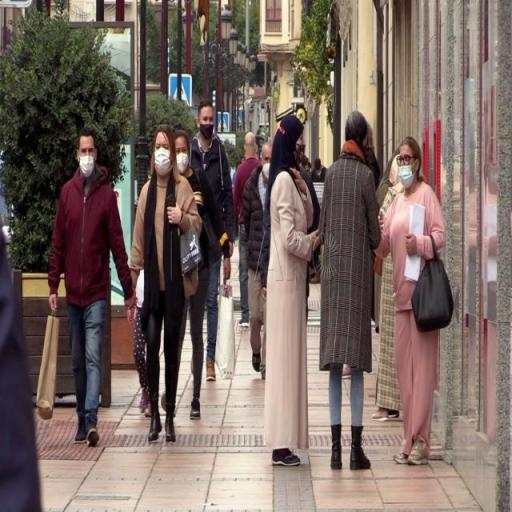person: (50, 123, 136, 450), (376, 139, 457, 469), (319, 112, 385, 471), (133, 122, 200, 443), (265, 112, 323, 472), (171, 129, 232, 423), (188, 101, 237, 387), (241, 144, 279, 376), (233, 129, 261, 327)
